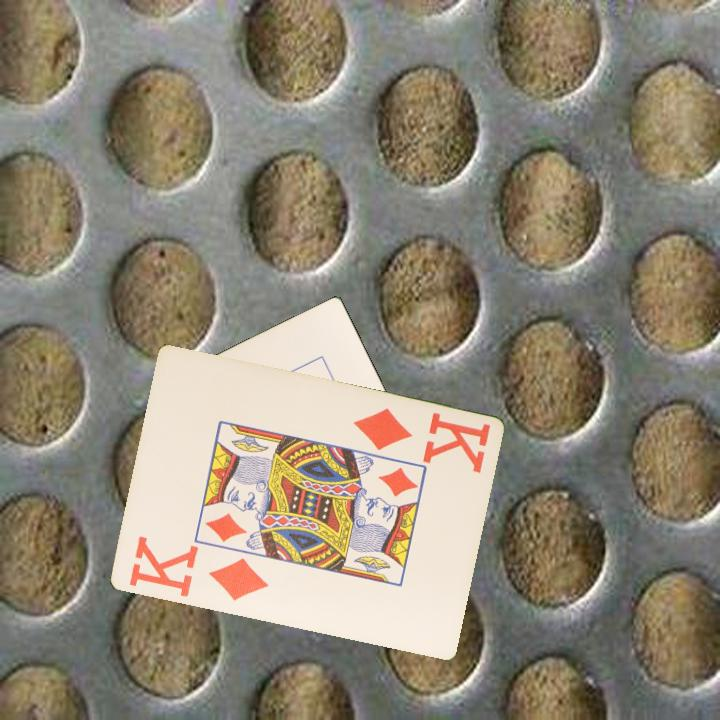Kd: (125, 532, 271, 605), (349, 405, 493, 475)
